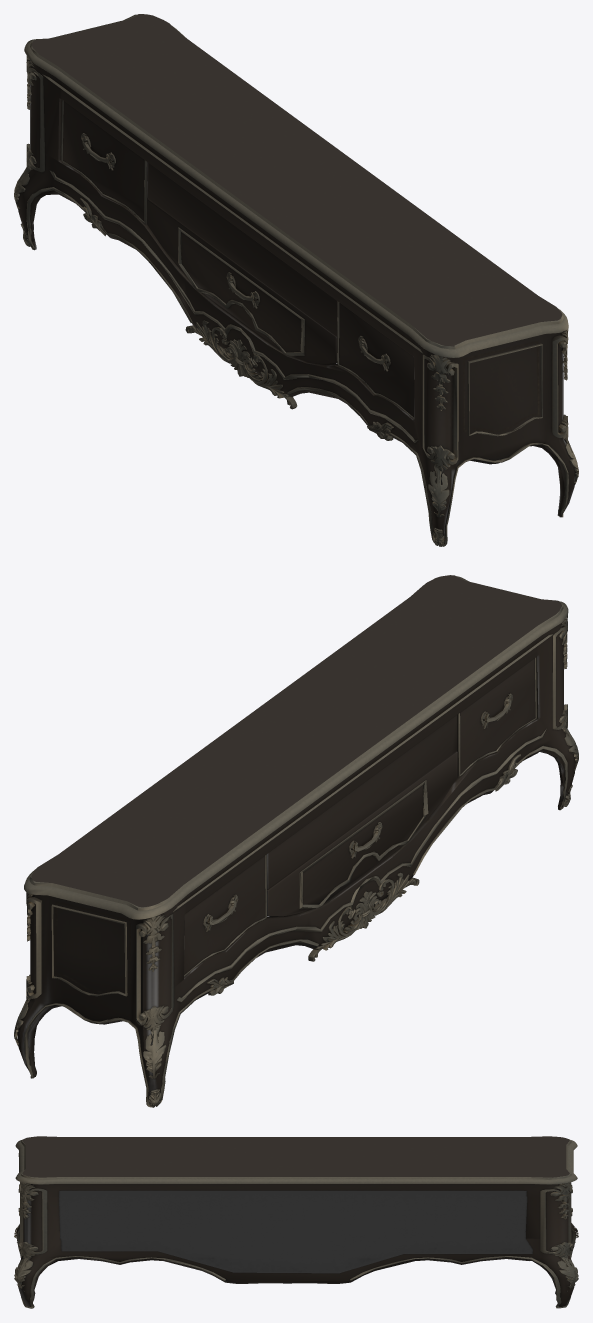
File: TV_Stand_bb1e010c-9581-5e5a-afdd-48011297b884.glb
3 views of the same model, one above another, from view 1: azimuth 30°, elevation 25°; view 2: azimuth 150°, elevation 25°; view 3: azimuth 270°, elevation 25° (orthographic). The views are drawn at different scales.
Parts seen in each view (by area): view 1: raw_model.obj; view 2: raw_model.obj; view 3: raw_model.obj.
Part boxes in pixels (x1,y1,x2,y2): raw_model.obj: (14,14,578,546); raw_model.obj: (14,575,578,1107); raw_model.obj: (14,1136,578,1308).
Bounding box in the file's own units: 0.4198 × 0.5578 × 2.17.
1 material, 1 textured.
